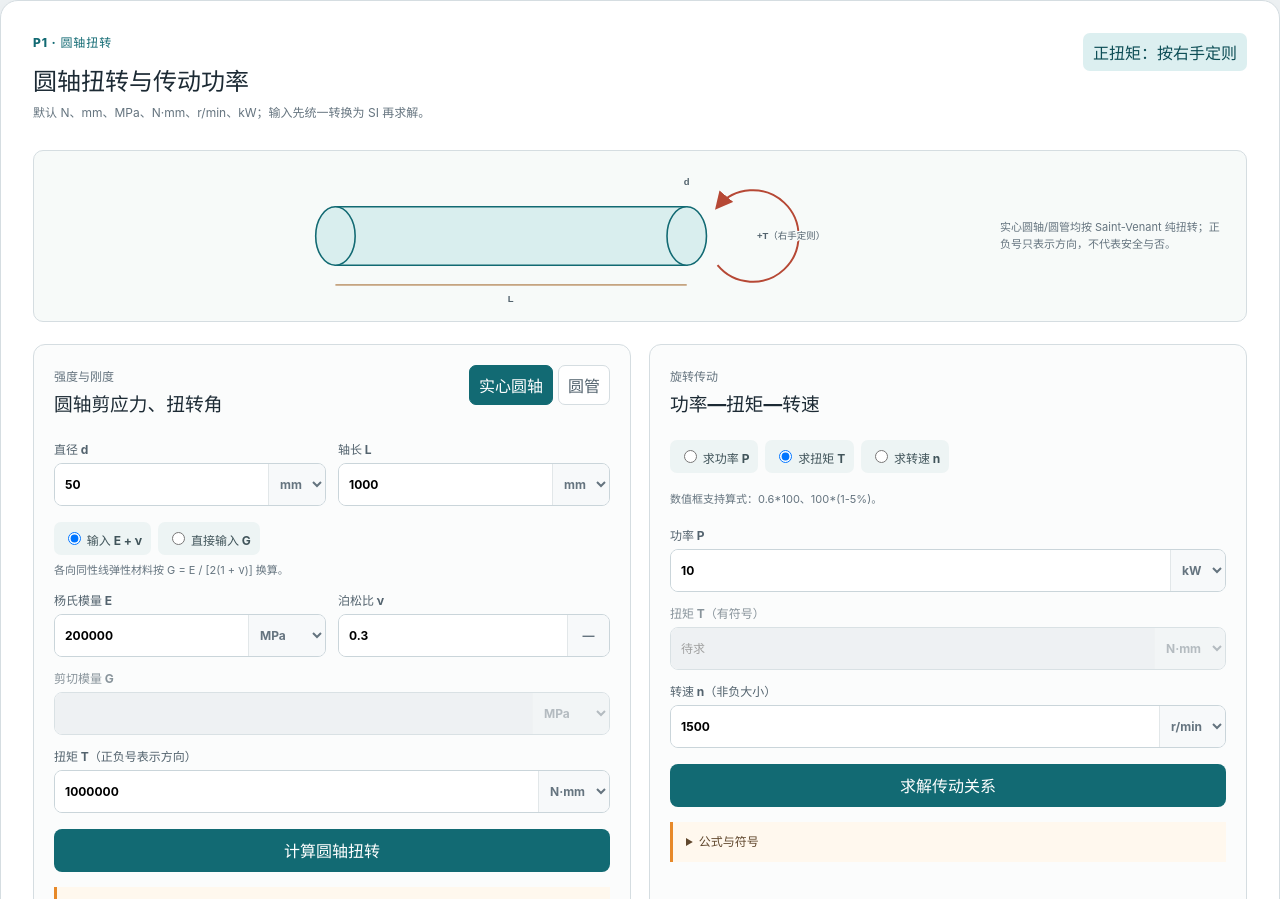
TorsionCalculator › shows explicit error for zero speed when solving torque
Replace the text in the field named "转速" with "0" at (915, 726), box [671, 706, 1159, 746]
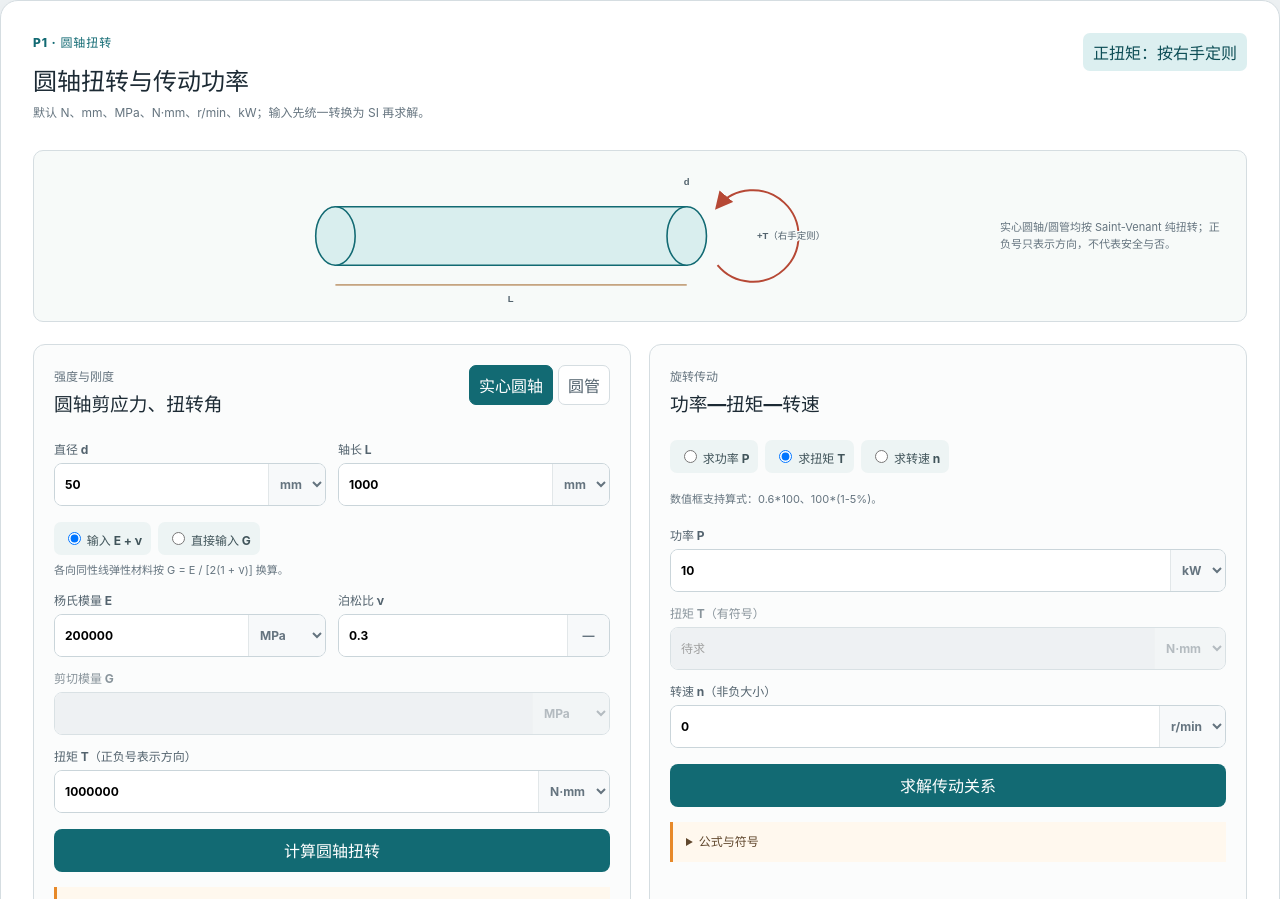
Click the button with class "calculate" showing "求解传动关系" at (948, 785), box [670, 764, 1226, 806]
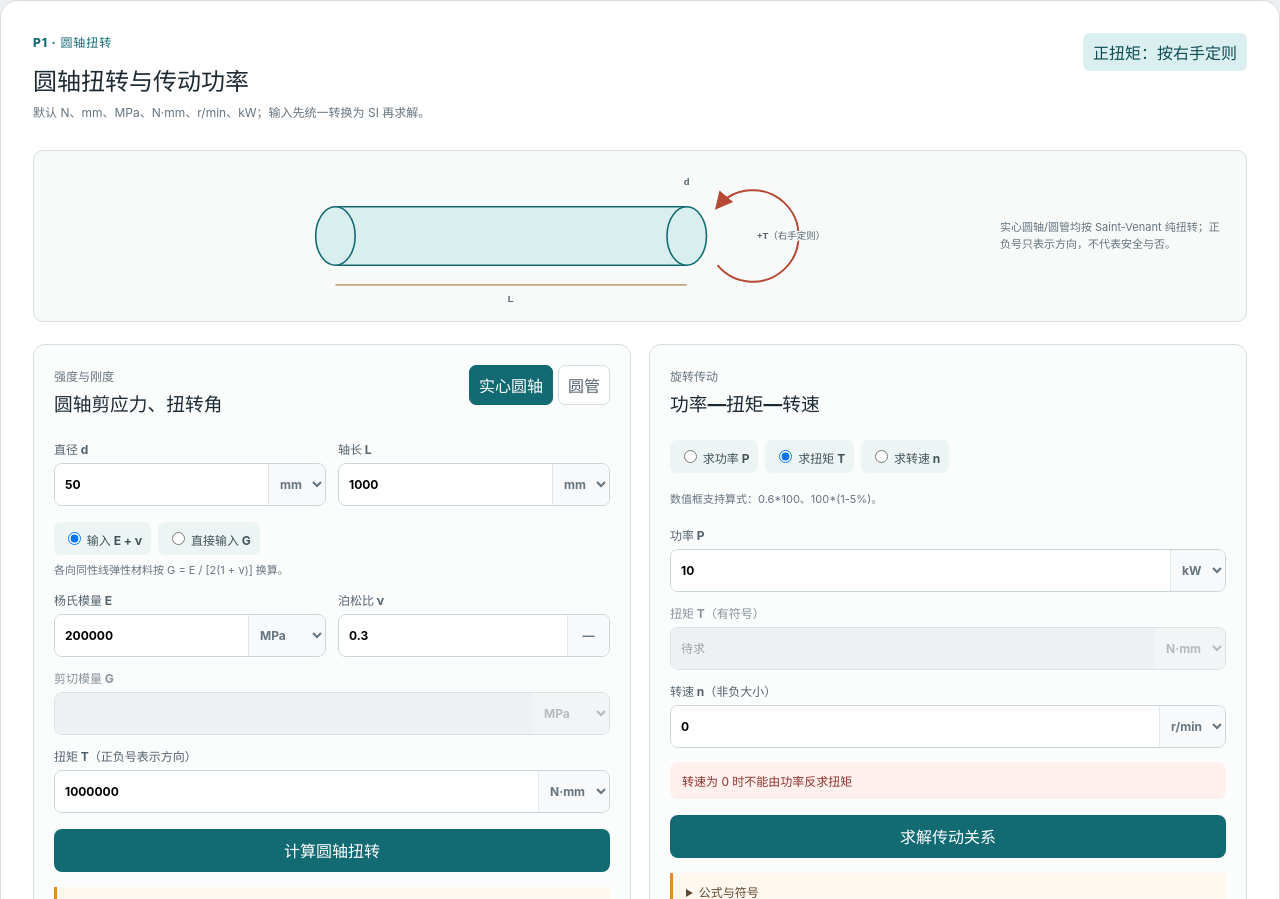
Now the message "转速为 0 时不能由功率反求扭矩" is shown, box [670, 762, 1226, 798]
